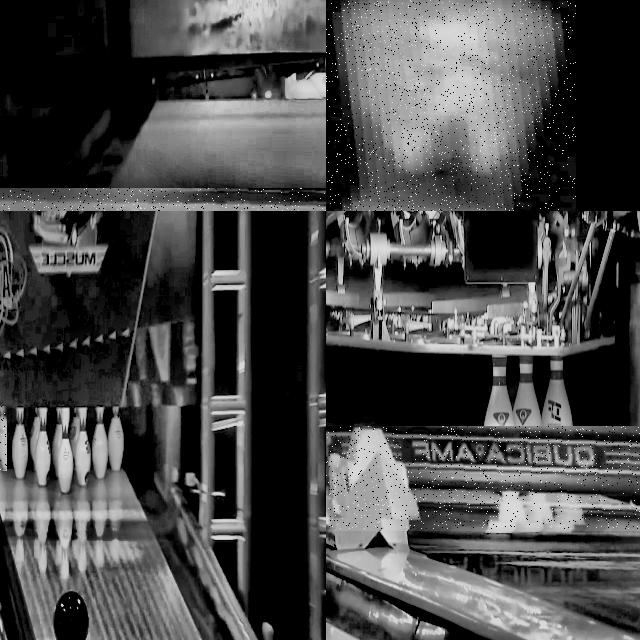bowling-ball: (54, 592, 88, 640)
bowling-pins: (335, 0, 560, 211), (542, 355, 573, 429), (484, 355, 515, 429), (513, 355, 542, 429), (34, 406, 51, 486), (58, 407, 73, 493), (75, 406, 91, 485), (12, 406, 28, 478), (92, 406, 108, 478), (108, 405, 124, 470), (51, 406, 62, 477), (29, 407, 40, 465), (69, 407, 80, 458), (0, 408, 6, 470)
sweep board: (326, 427, 640, 504)
